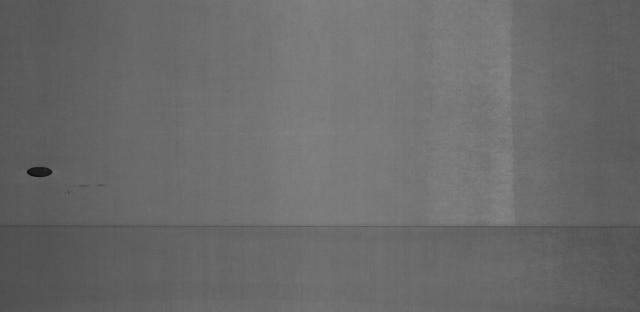punching_hole: (24, 162, 56, 182)
welding_line: (4, 217, 637, 235)
